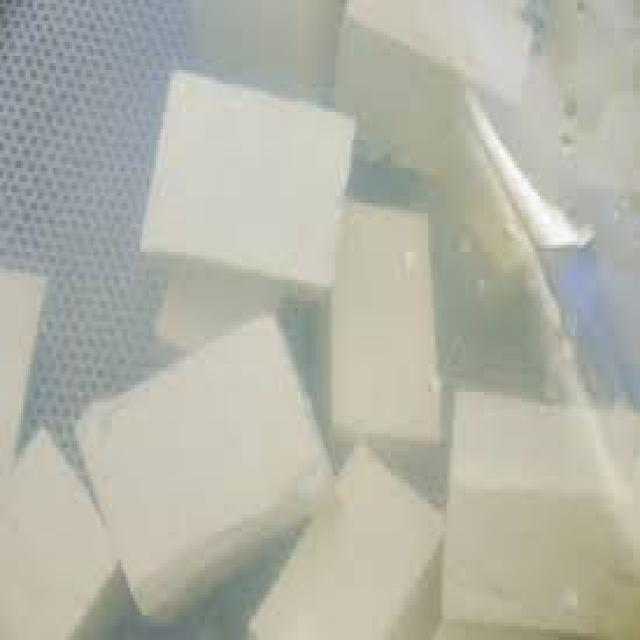tofu: (80, 320, 328, 612), (133, 57, 362, 299)
